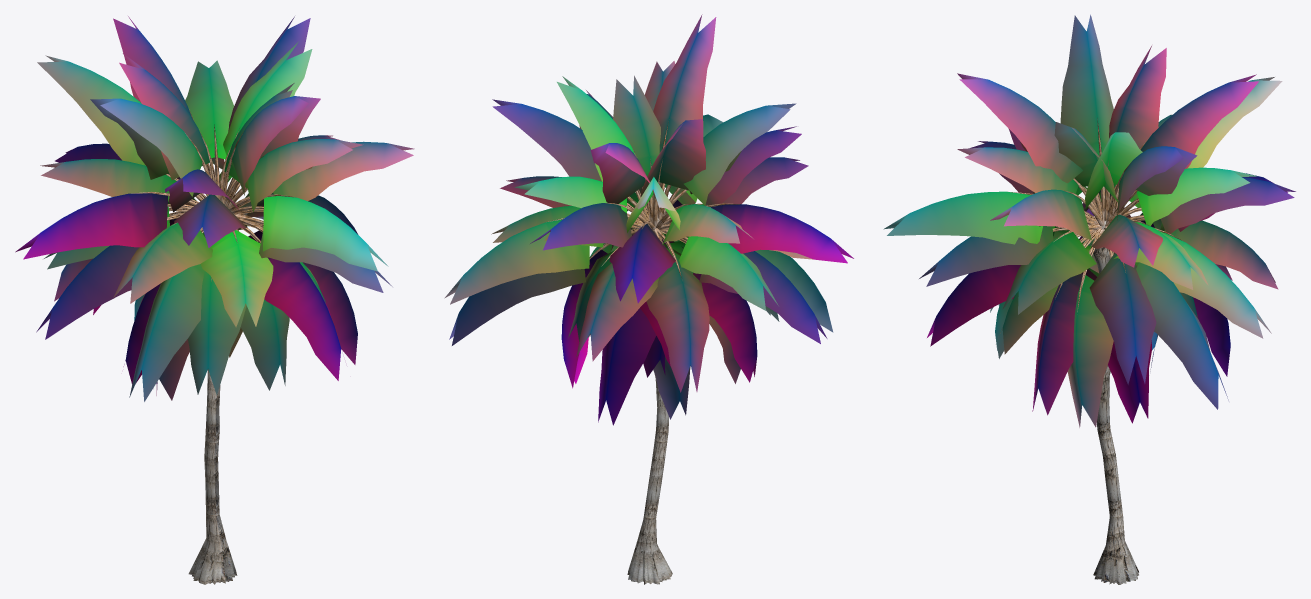
The model's file is coconut_created.fbx.
The picture shows the model from 3 angles, left to right: view 1: azimuth 30°, elevation 25°; view 2: azimuth 150°, elevation 25°; view 3: azimuth 270°, elevation 25°; orthographic projection. The views are drawn at different scales.
Parts seen in each view (by area): view 1: Tree_2, Tree_1, Tree_0; view 2: Tree_2, Tree_1, Tree_0; view 3: Tree_2, Tree_1, Tree_0.
Boxes of the visible parts, x1=… form: Tree_2: x1=15, y1=16, x2=414, y2=401; Tree_1: x1=188, y1=369, x2=237, y2=584; Tree_0: x1=131, y1=109, x2=295, y2=281; Tree_2: x1=444, y1=14, x2=853, y2=425; Tree_1: x1=627, y1=218, x2=672, y2=584; Tree_0: x1=548, y1=119, x2=740, y2=280; Tree_2: x1=883, y1=14, x2=1295, y2=427; Tree_1: x1=1093, y1=220, x2=1138, y2=584; Tree_0: x1=1008, y1=118, x2=1183, y2=311.
Size of the model in its own units: 327 by 451 by 333.
